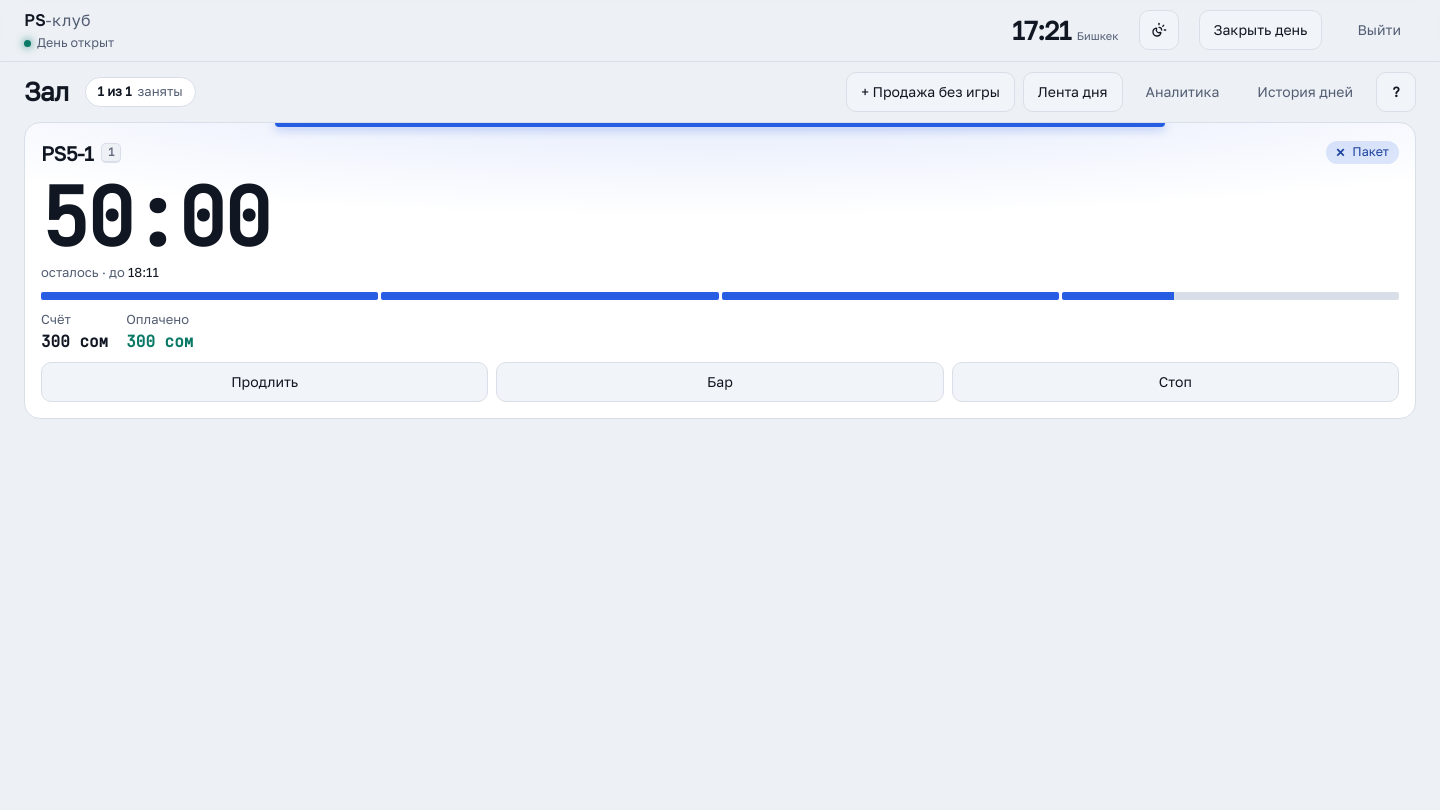
it: HallPage › stops the clicked session and reports a failed stop to the operator
This screenshot has width=1440, height=810.
Expected: the text "PS5-1" is shown, [41,139,93,167]
Click the button "Стоп": [1175, 382] box [952,362,1399,402]
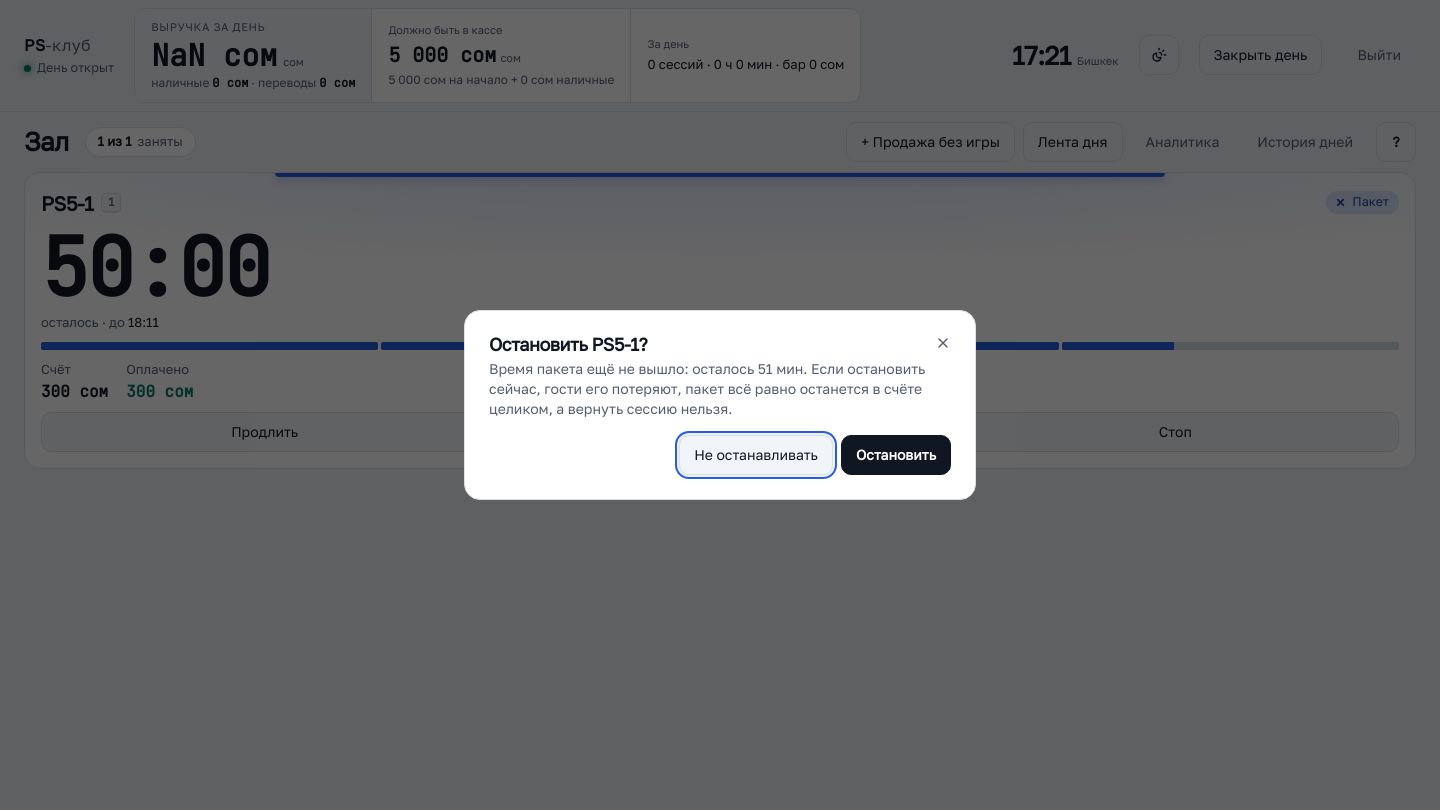
Click the button "Остановить": [896, 455] box [841,435,951,475]
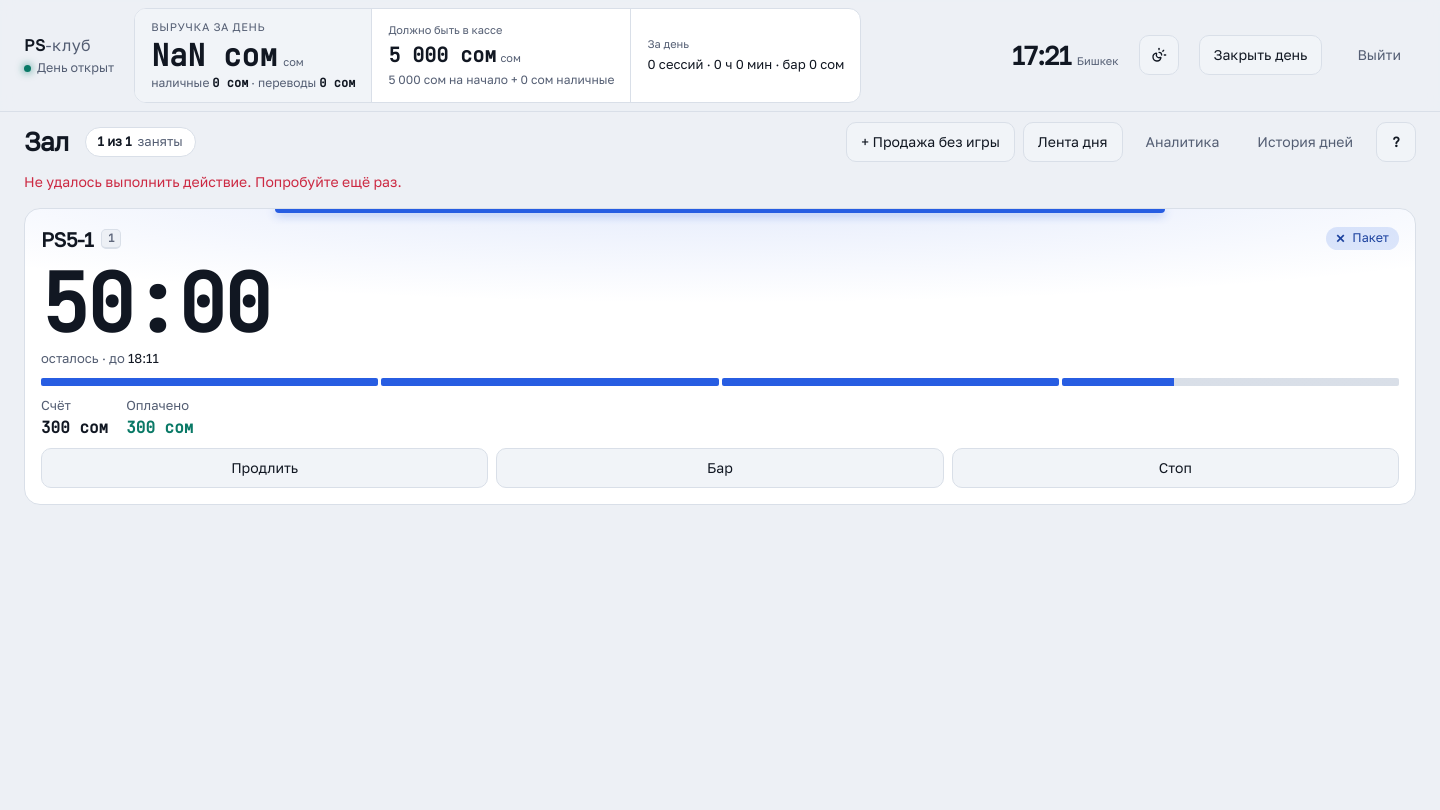
Now the text "Не удалось выполнить действие. Попробуйте ещё раз." is shown, box [24,172,402,190]
